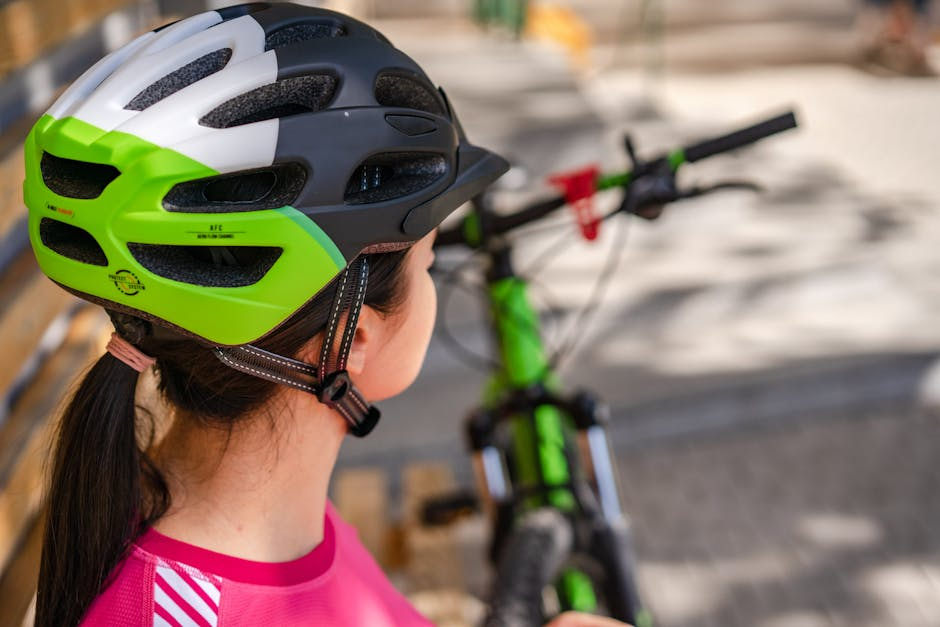safety_helmet: (21, 1, 511, 433), (21, 1, 511, 354)
